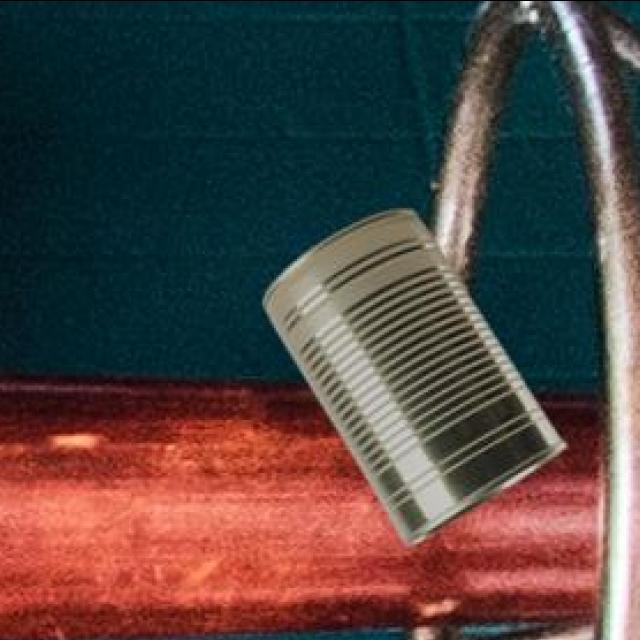logam: (261, 204, 563, 540)
